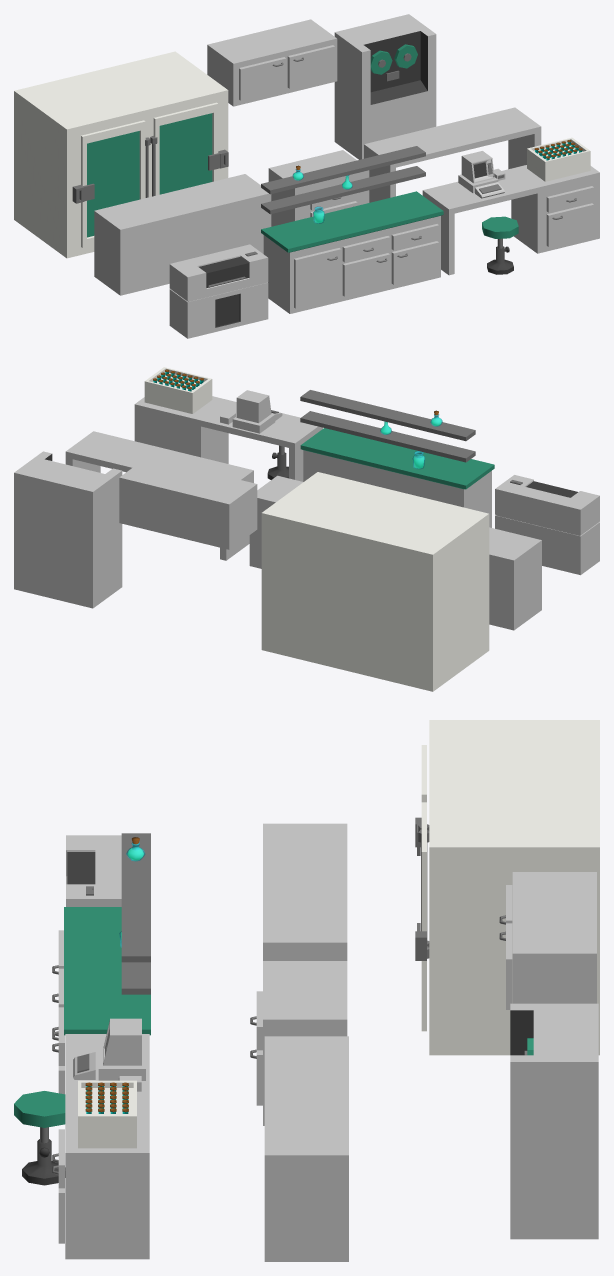
Rendered from lab2.glb.
3 views of the same model, one above another, from view 1: azimuth 30°, elevation 25°; view 2: azimuth 150°, elevation 25°; view 3: azimuth 270°, elevation 25° (orthographic). The views are drawn at different scales.
Parts seen in each view (by area): view 1: frezzer, balcony_center, balcony_base, record, balcony_seat, air_balcony, balcony_printer, balcony_table, balcony_bidet, box_samples, computer, chair (+1 smaller); view 2: frezzer, record, balcony_center, air_balcony, balcony_printer, balcony_seat, balcony_base, balcony_table, box_samples, computer, balcony_bidet, samples (+1 smaller); view 3: frezzer, record, balcony_table, balcony_center, balcony_seat, air_balcony, balcony_base, balcony_bidet, balcony_printer, box_samples, computer, chair (+1 smaller).
Boxes of the visible parts, x1,y1,x2,y2 form: frezzer: (14, 51, 228, 258); balcony_center: (261, 146, 443, 313); balcony_base: (94, 174, 271, 295); record: (334, 14, 436, 159); balcony_seat: (422, 165, 599, 275); air_balcony: (207, 19, 337, 106); balcony_printer: (169, 244, 268, 338); balcony_table: (364, 107, 541, 202); balcony_bidet: (268, 150, 369, 226); box_samples: (527, 137, 590, 181); computer: (458, 151, 505, 198); chair: (482, 216, 518, 274); frezzer: (261, 472, 489, 691); record: (14, 451, 122, 608); balcony_center: (300, 390, 494, 527); air_balcony: (119, 457, 257, 549); balcony_printer: (495, 475, 599, 575); balcony_seat: (134, 396, 322, 481); balcony_base: (489, 527, 541, 630); balcony_table: (65, 431, 253, 560); box_samples: (144, 367, 212, 413); computer: (220, 390, 282, 433); balcony_bidet: (249, 475, 303, 568); samples: (153, 369, 203, 391); frezzer: (415, 720, 599, 1055); record: (510, 1003, 598, 1239); balcony_table: (264, 1036, 348, 1261); balcony_center: (52, 833, 150, 1094); balcony_seat: (52, 1034, 149, 1259); air_balcony: (499, 872, 596, 1009); balcony_base: (263, 823, 347, 960); balcony_bidet: (250, 961, 347, 1125); balcony_printer: (66, 835, 121, 906); box_samples: (78, 1080, 136, 1148); computer: (73, 1018, 145, 1091); chair: (14, 1091, 65, 1185).
Size of the model in its own units: 18.68 by 5.44 by 13.87.
